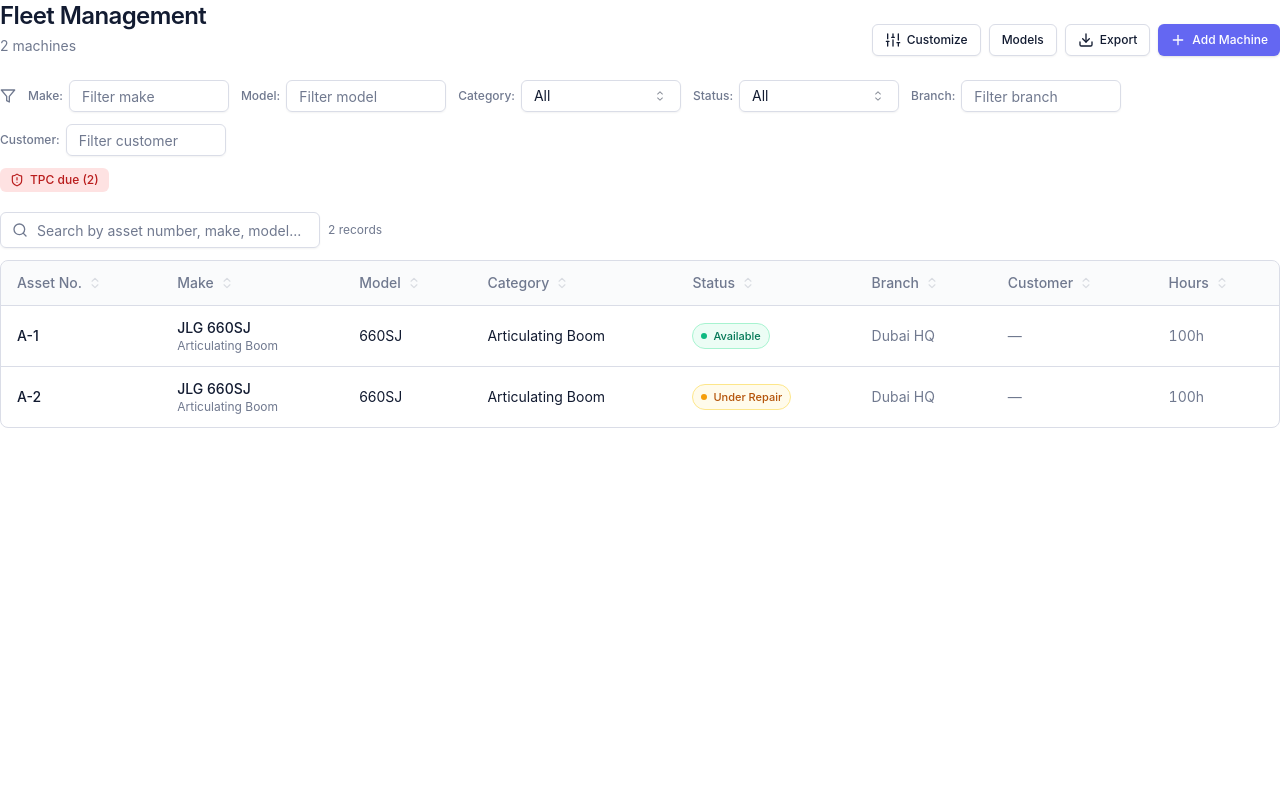
Test: Fleet screen (API) › keeps the entered values and shows the message and correlation id when the API rejects the create
Expected: the text "A-1" is shown, [17,326,39,344]
Click the button "Add Machine" at (1219, 40), box [1158,24,1279,56]
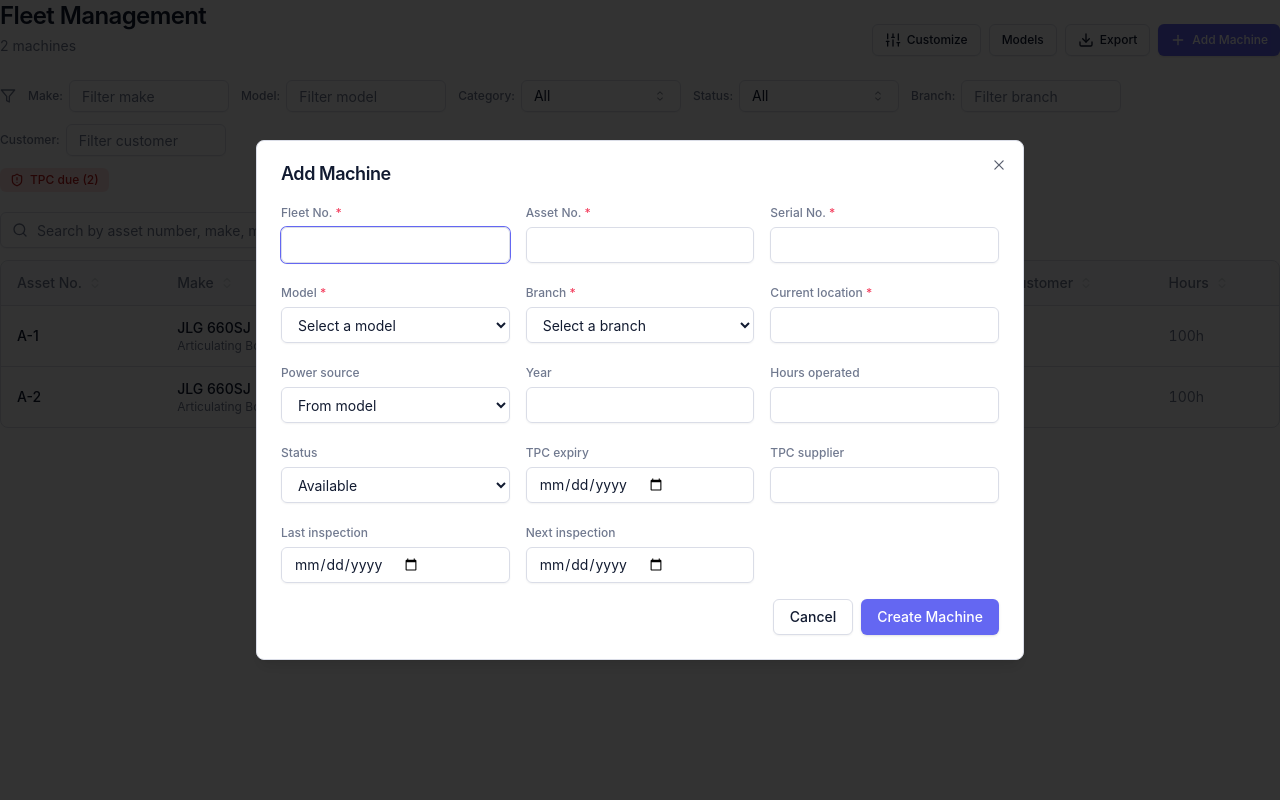
Type "J900" into the field labelled "Fleet No. *" at (395, 245), box [281,227,510,263]
Type "A900" into the field labelled "Asset No. *" at (640, 245), box [526,227,754,263]
Type "SN900" into the field labelled "Serial No. *" at (885, 245), box [770,227,999,263]
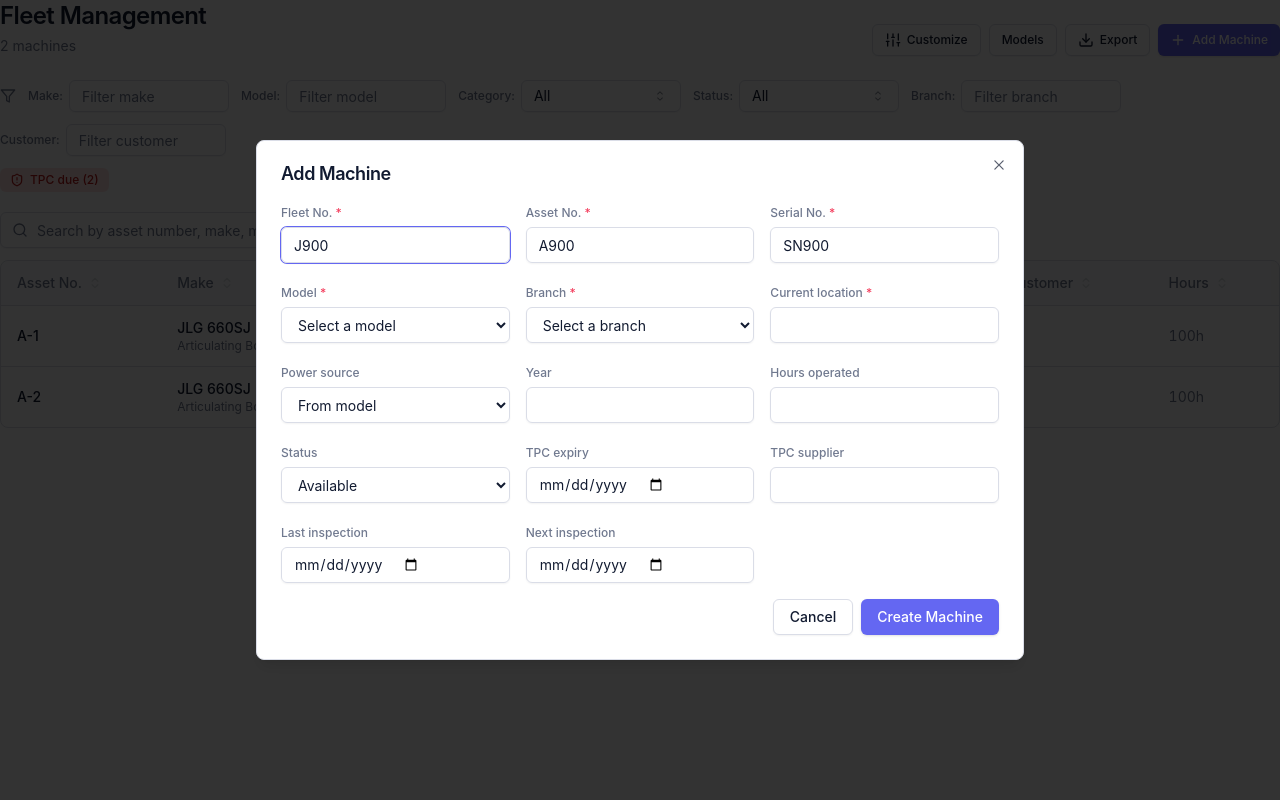
Select "JLG 660SJ" in the dropdown labelled "Model *" at (395, 325), box [281,307,510,343]
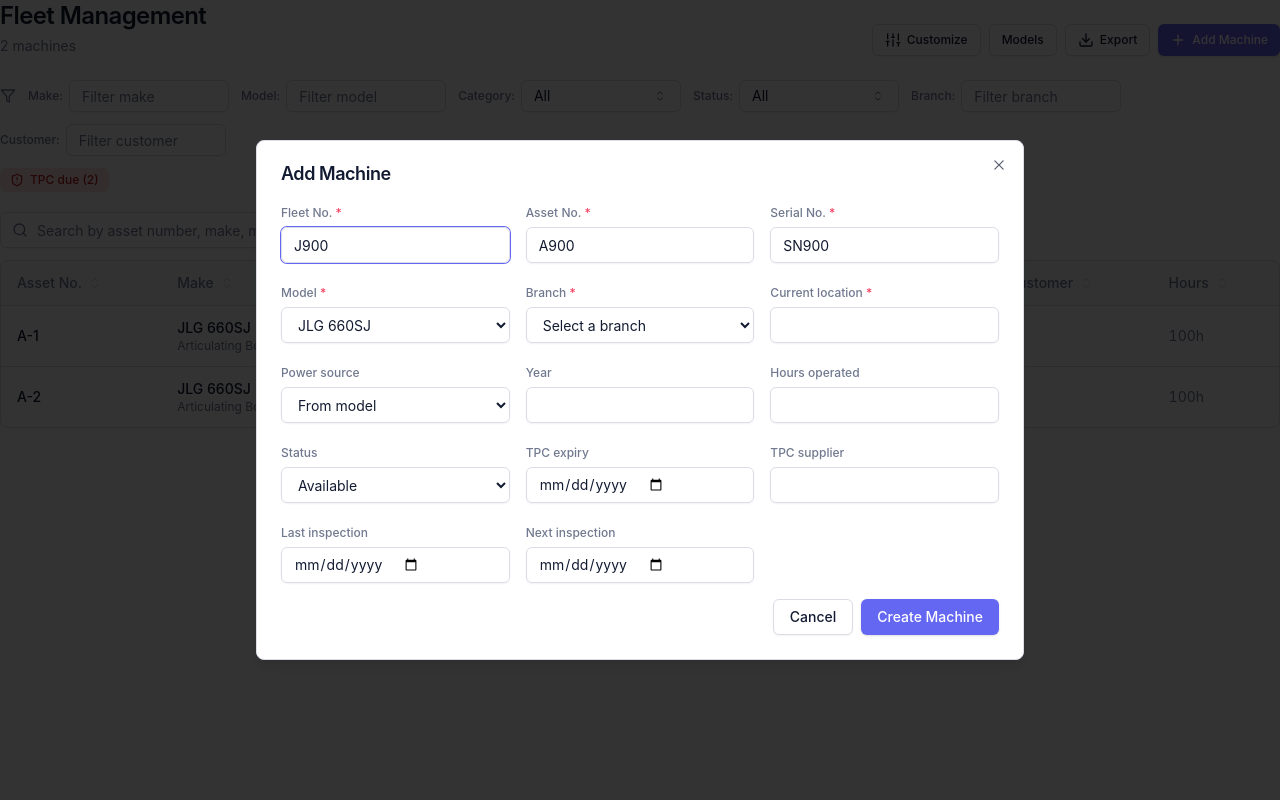
Select "Dubai HQ" in the dropdown labelled "Branch *" at (640, 325), box [526,307,754,343]
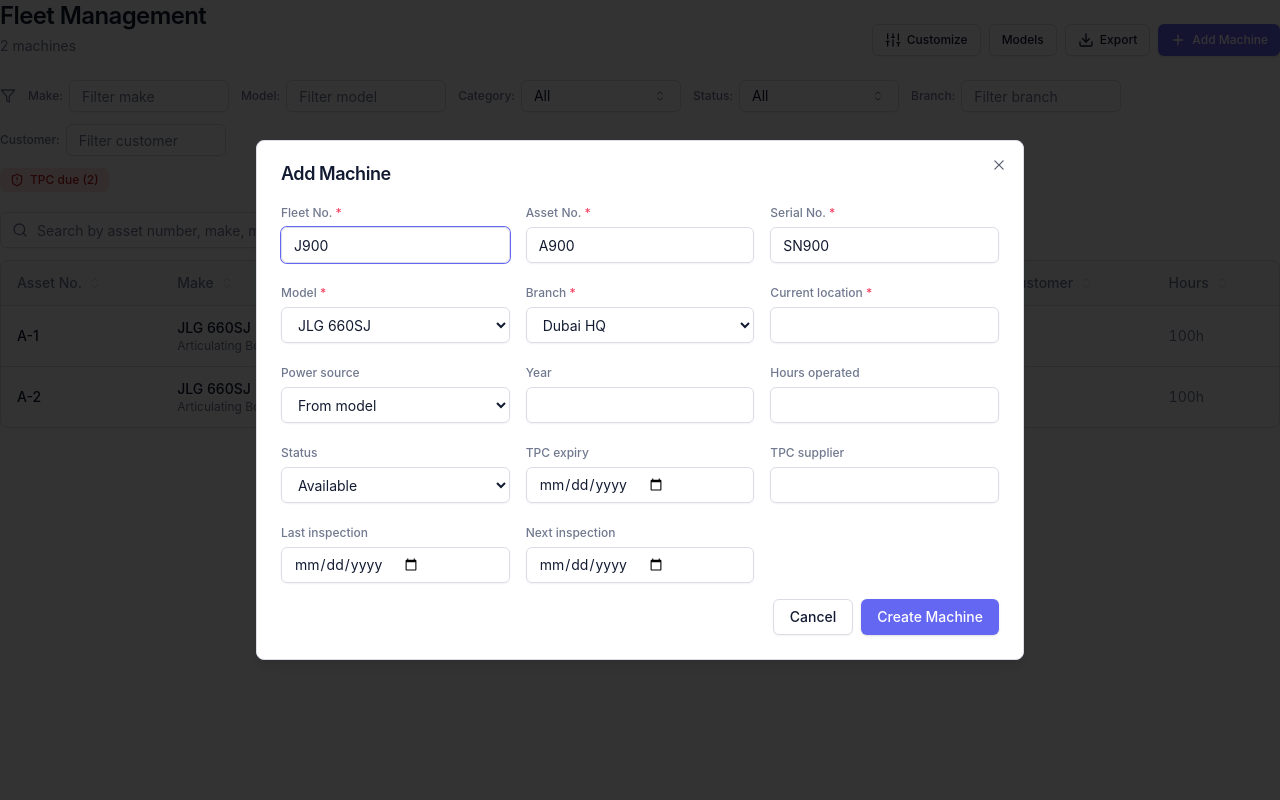
Type "Yard 3" into the field labelled "Current location *" at (885, 325), box [770,307,999,343]
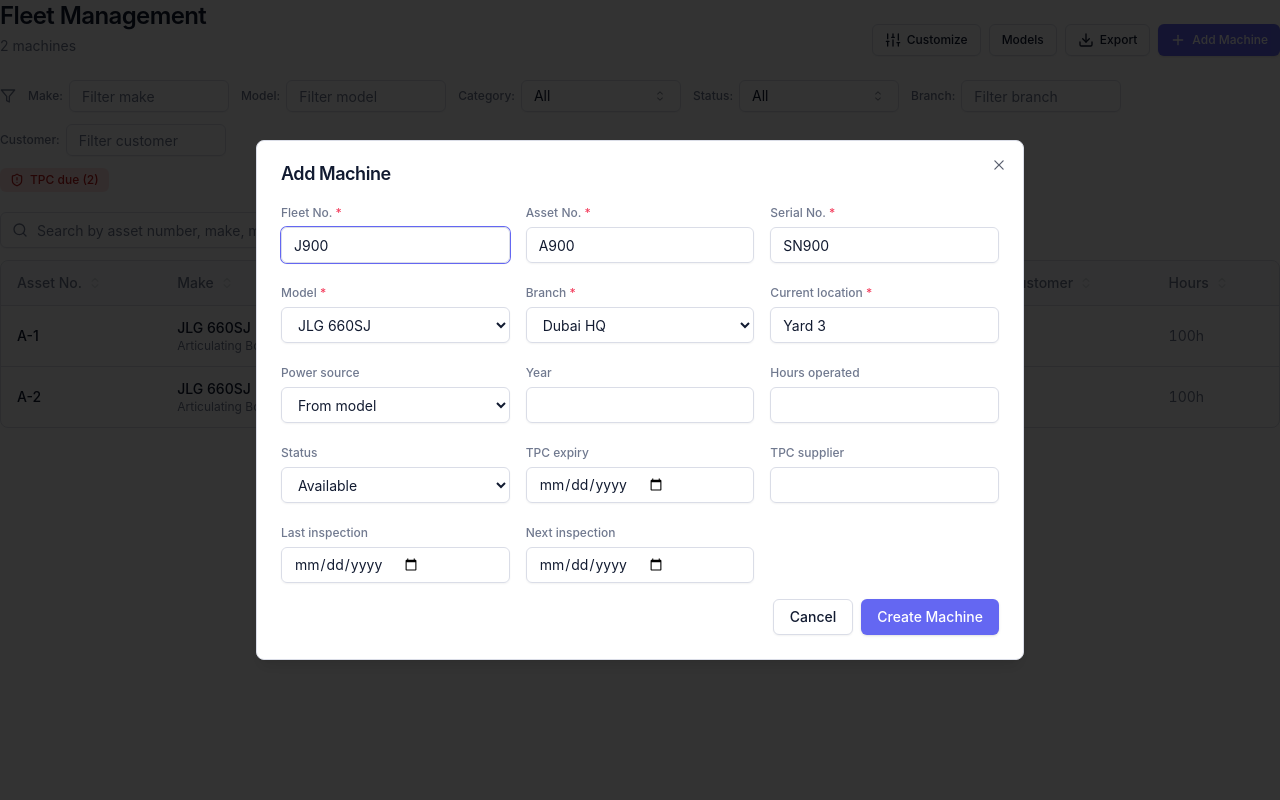
Click the button "Create Machine" at (930, 617), box [861,599,999,635]
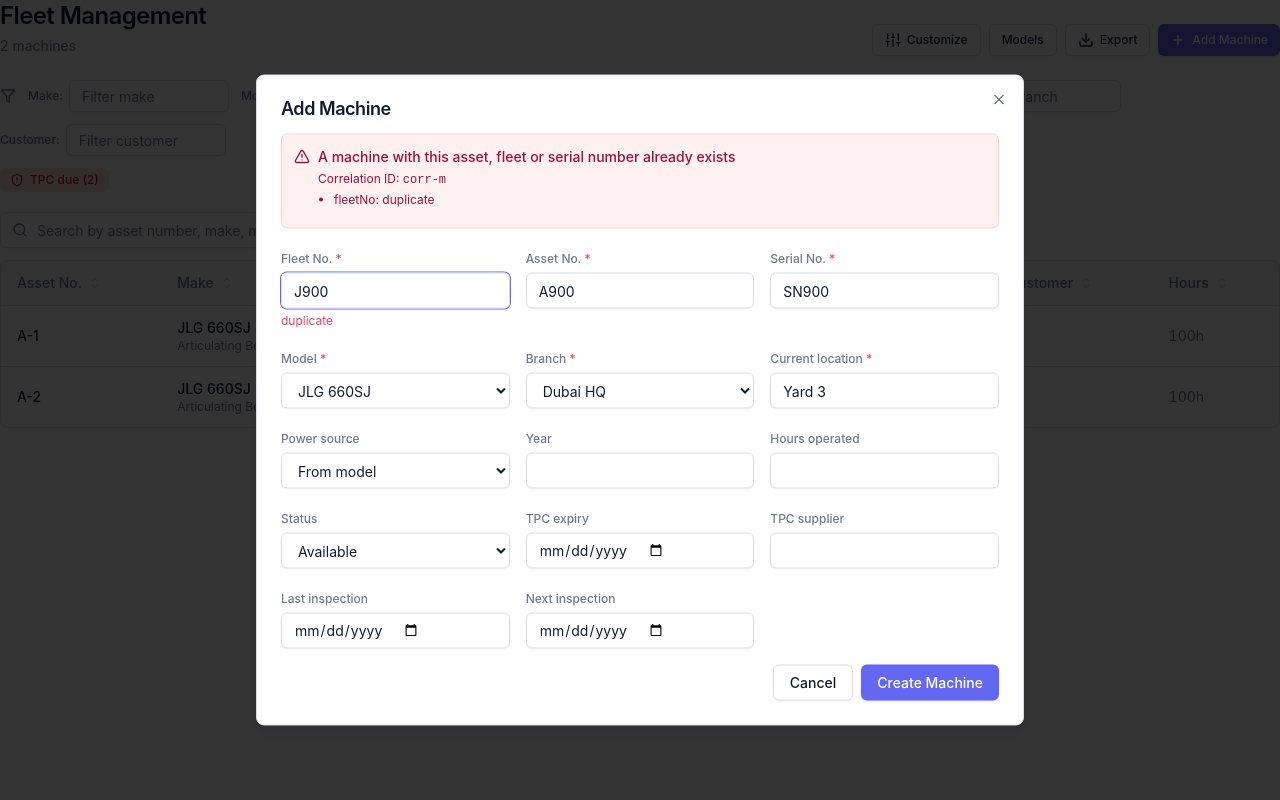
Expected: the message with test id "api-error" shows "already exists", [318,148,736,164]
Expected: the message with test id "api-error" shows "corr-m", [403,172,446,186]
